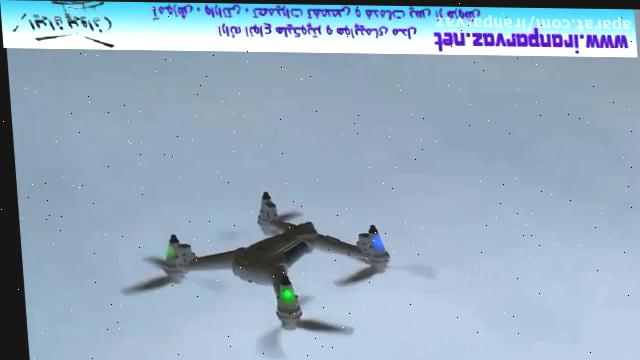drone: (107, 186, 444, 360)
